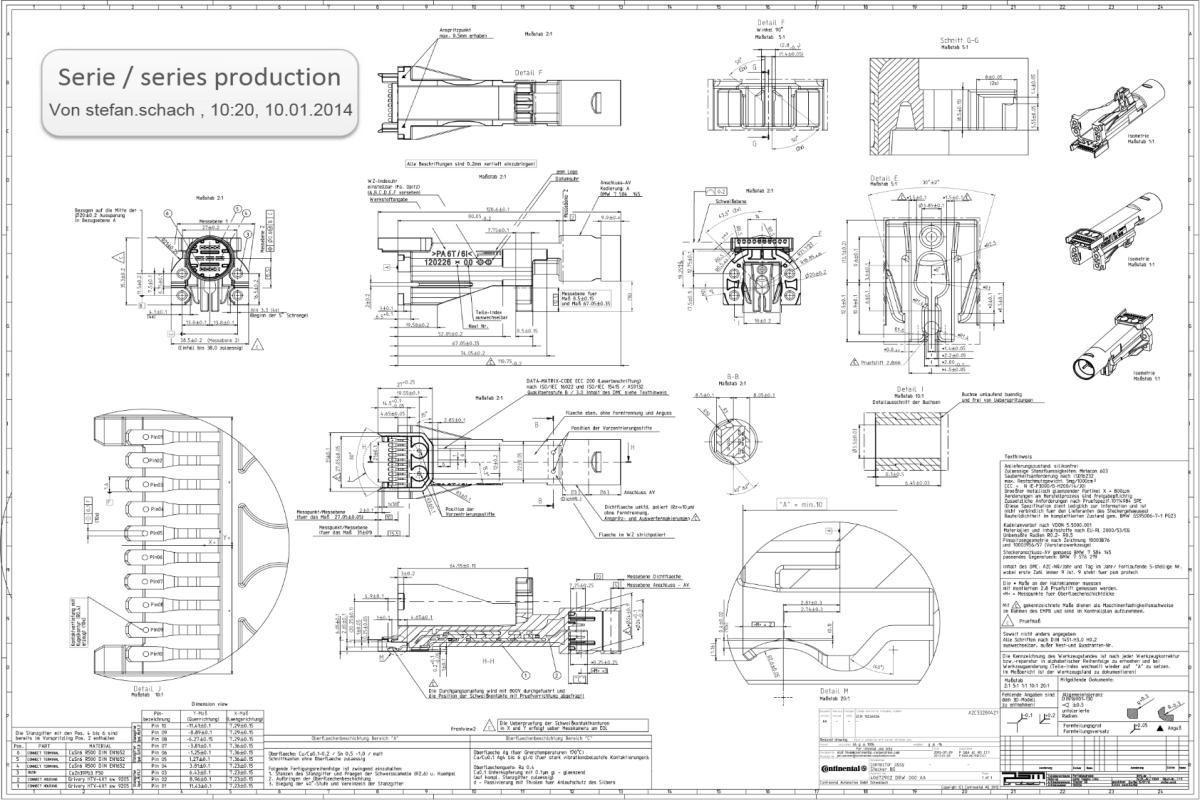falcon_r1: (53, 384, 308, 709), (293, 376, 719, 551), (351, 151, 652, 372), (329, 559, 703, 707), (704, 493, 953, 713), (65, 183, 317, 358), (834, 170, 1020, 379), (374, 23, 633, 146), (664, 181, 830, 338), (855, 29, 1048, 164), (842, 384, 1061, 499), (685, 16, 842, 160), (1060, 292, 1181, 399), (1062, 48, 1174, 163), (685, 368, 781, 502), (1061, 176, 1181, 280)
